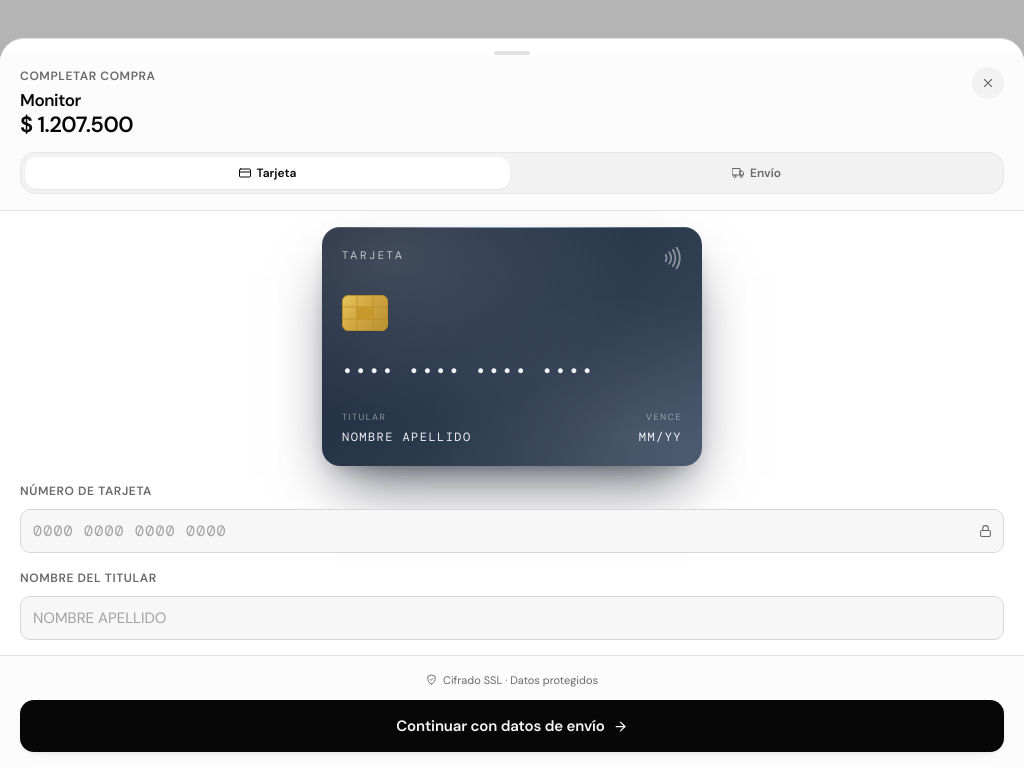
Test: PaymentModal card security handling › shows a reusable validation toast when trying to open envio without valid card data
Click the button "Envío" at (756, 173), box x1=514 y1=157 x2=999 y2=189
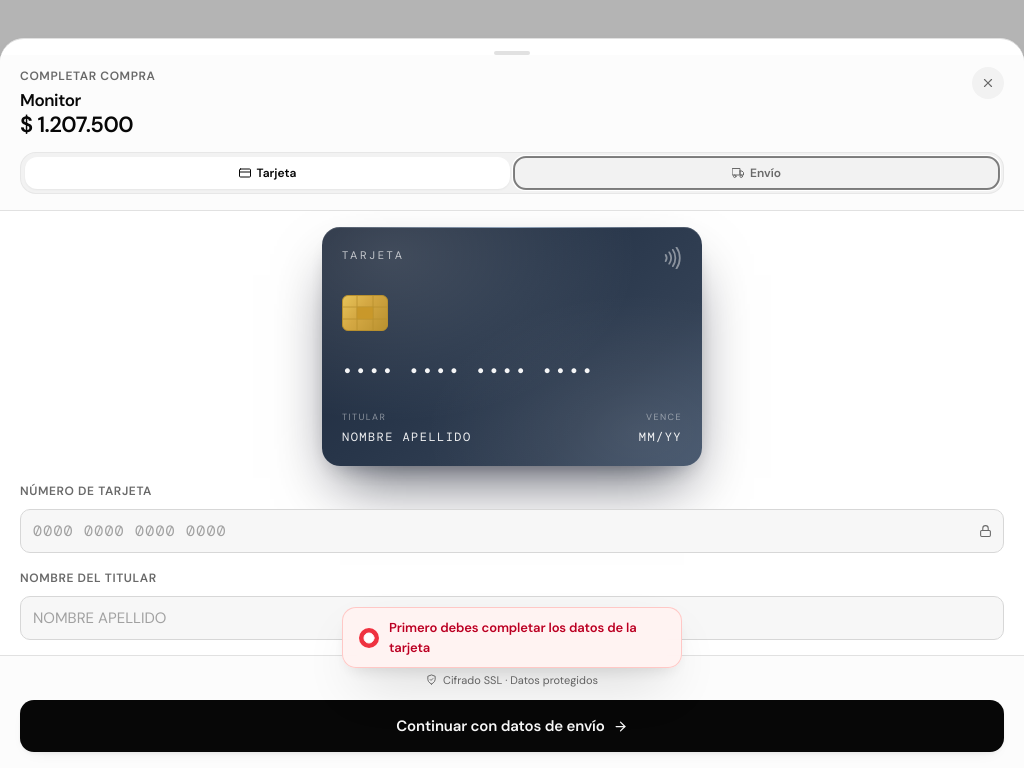
Result: the text "Primero debes completar los datos de la tarjeta" is shown at x1=389 y1=618 x2=665 y2=657
